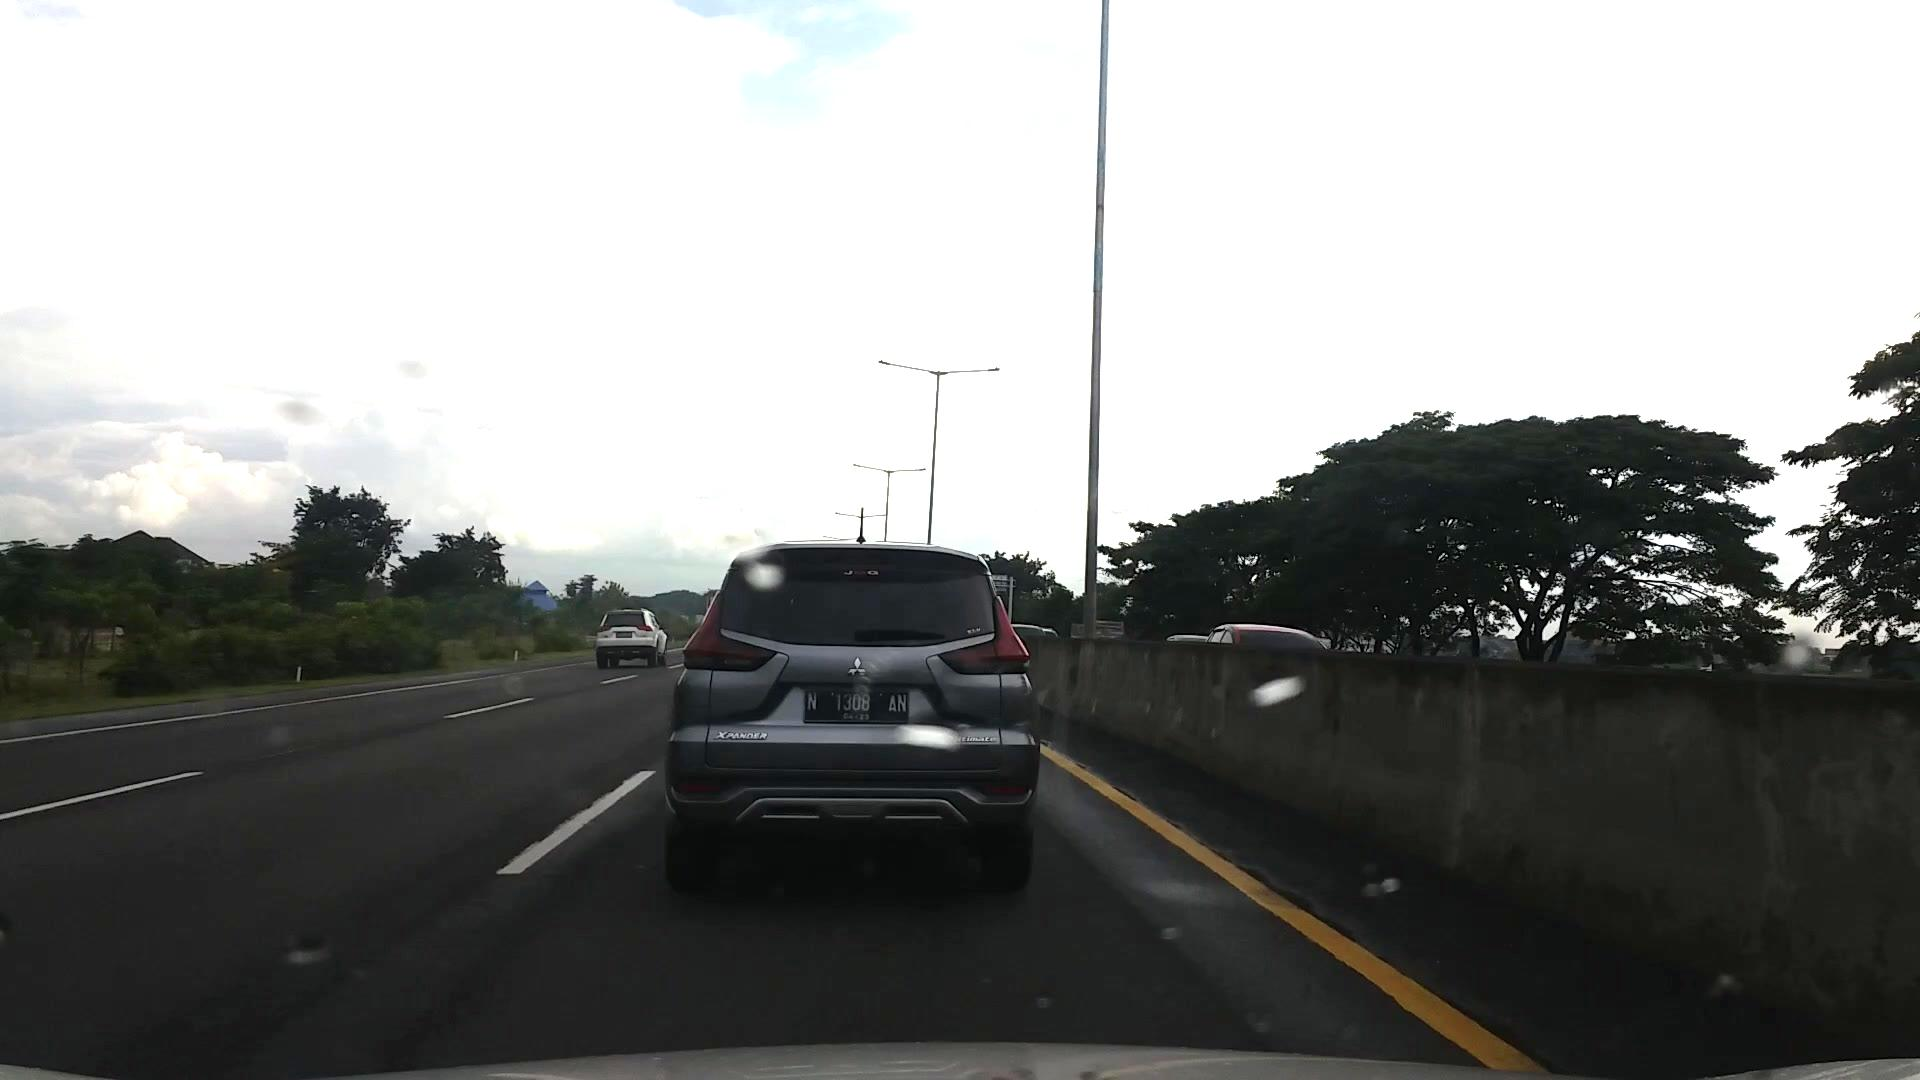plate_positive: (803, 688, 909, 724)
